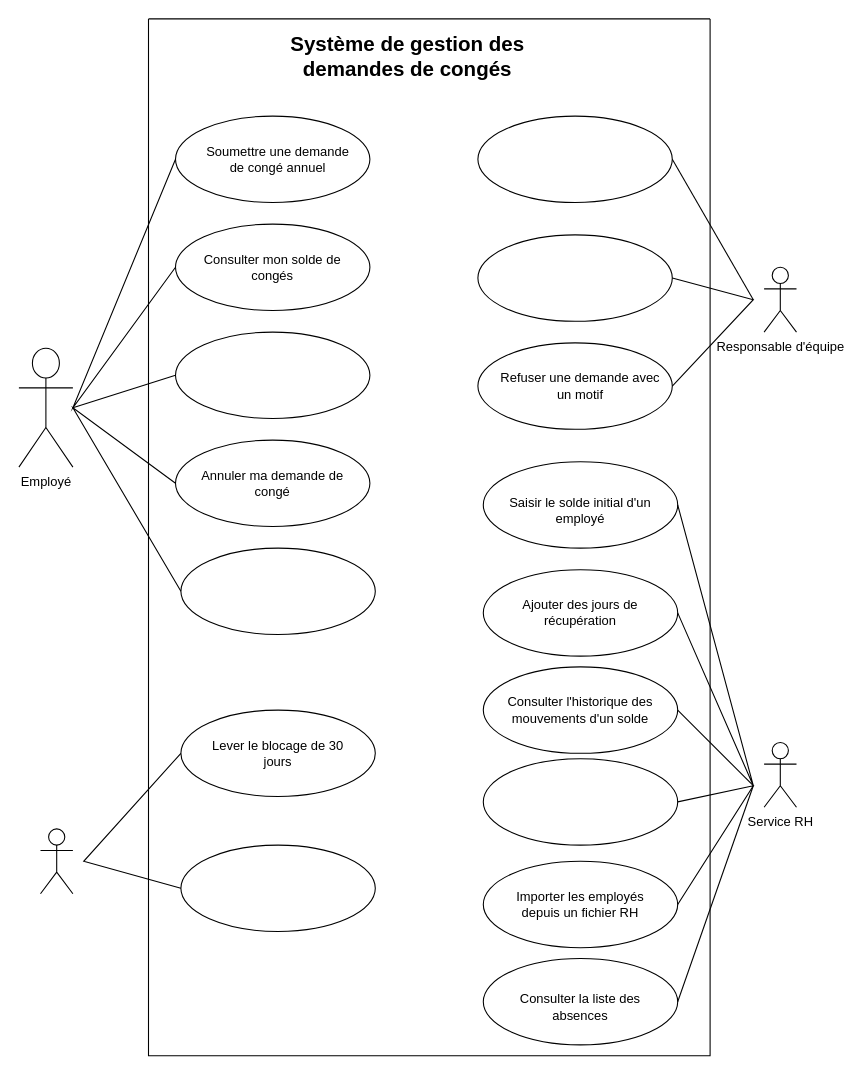
The diagram is 863 pixels wide and 1075 high, and some of its shapes have lost their labels. The shapes that lost their labels are listed below. From the top down, each one's centre as x and y in pixels, then its label:
At (574,158): "Consulter les demandes et le planning de l'équipe".
At (574,277): "Accepter une demande en attente".
At (272,374): "Suivre l'état de mes demandes".
At (277,590): "Demander un congé exceptionnel".
At (580,801): "Maintenir la liste des jours fériés".
At (56,861): "Directrice RH".
At (277,888): "Autoriser une exception à la limite d'absents".
